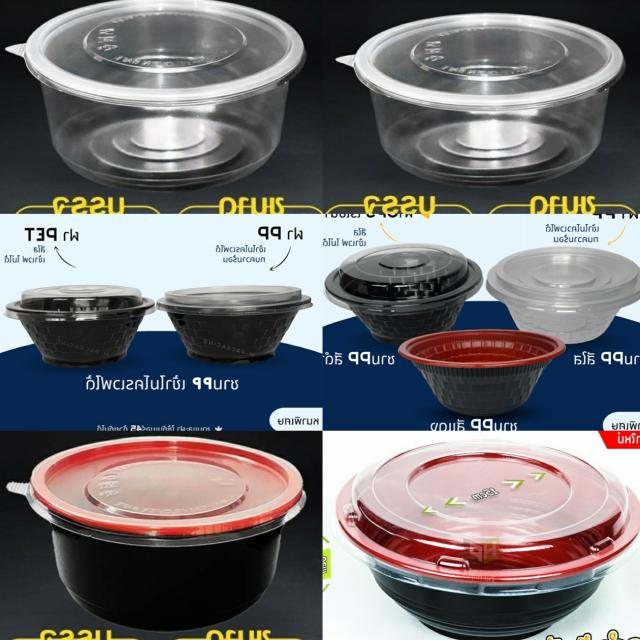plastik: (336, 440, 640, 640), (7, 437, 306, 630), (7, 0, 304, 190), (338, 13, 625, 186), (325, 243, 482, 345), (486, 246, 640, 343), (399, 330, 565, 416), (6, 285, 156, 366), (157, 285, 312, 363)
